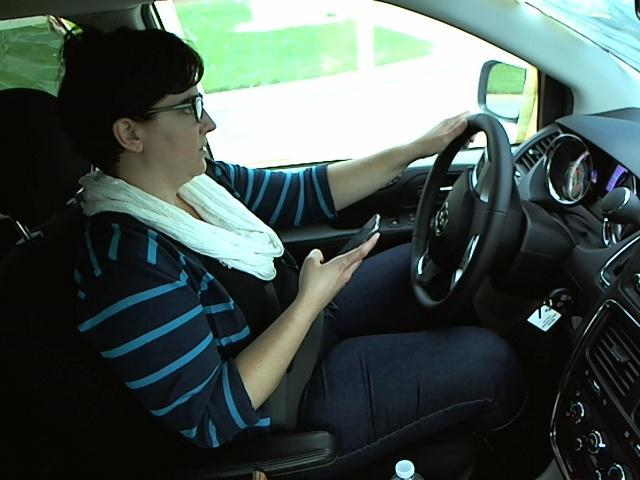PhoneUse: (308, 207, 390, 271)
